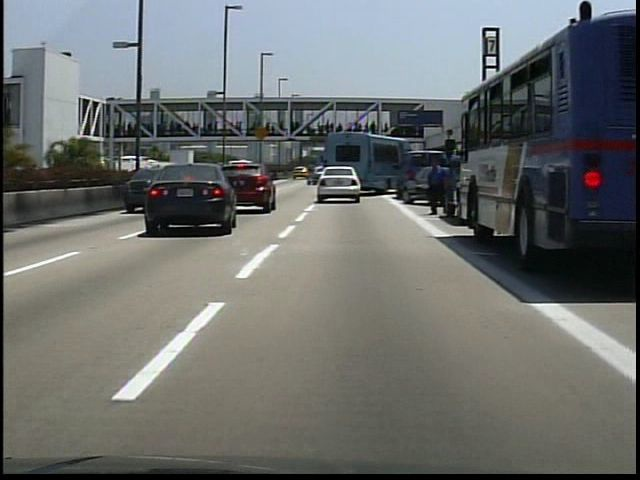person: (425, 155, 448, 220)
